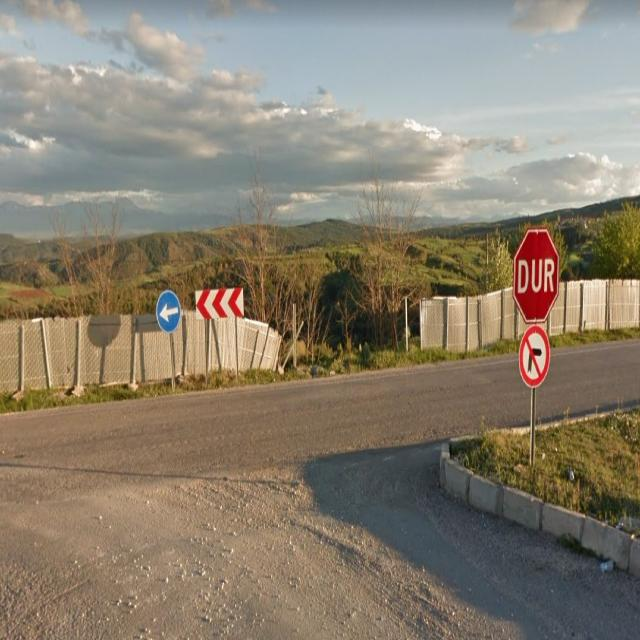dur: (513, 226, 559, 323)
sagadonulmez: (518, 327, 550, 389)
sol: (156, 289, 181, 333)
